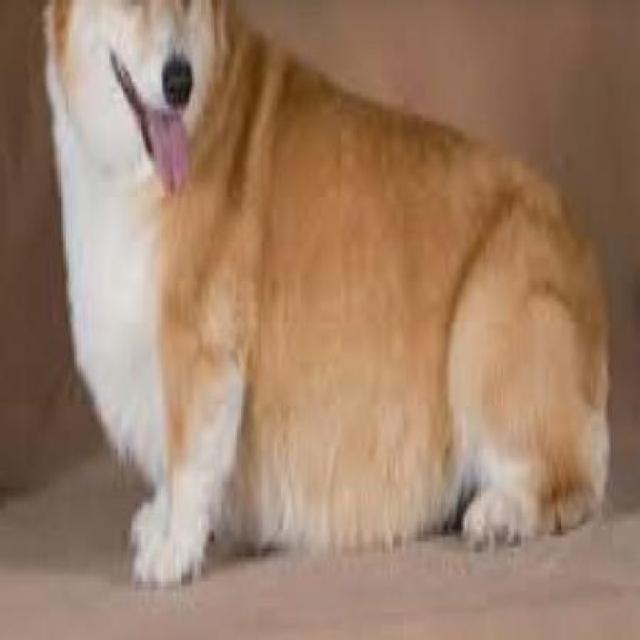Dog: (38, 0, 614, 594)
